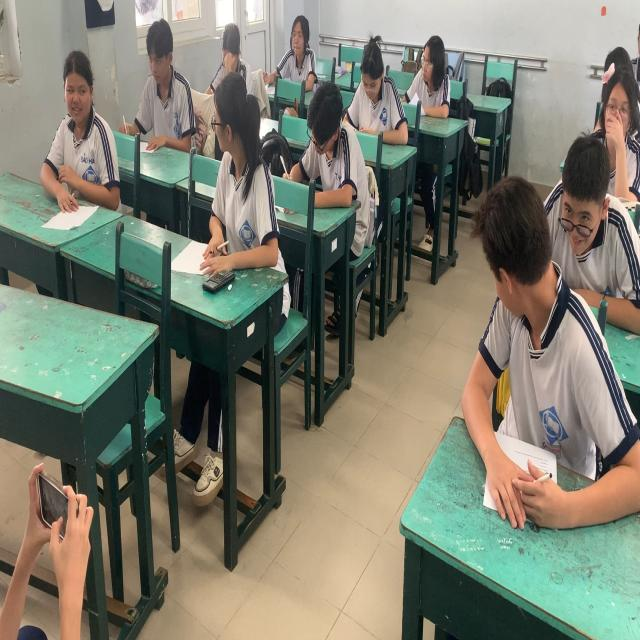cheating: (462, 195, 622, 512), (31, 36, 136, 225), (204, 73, 288, 294), (548, 146, 614, 278)
not_cheating: (126, 18, 206, 160), (346, 29, 402, 135), (299, 66, 357, 167), (594, 63, 638, 184), (272, 15, 328, 73), (410, 39, 454, 104), (202, 22, 248, 77)
